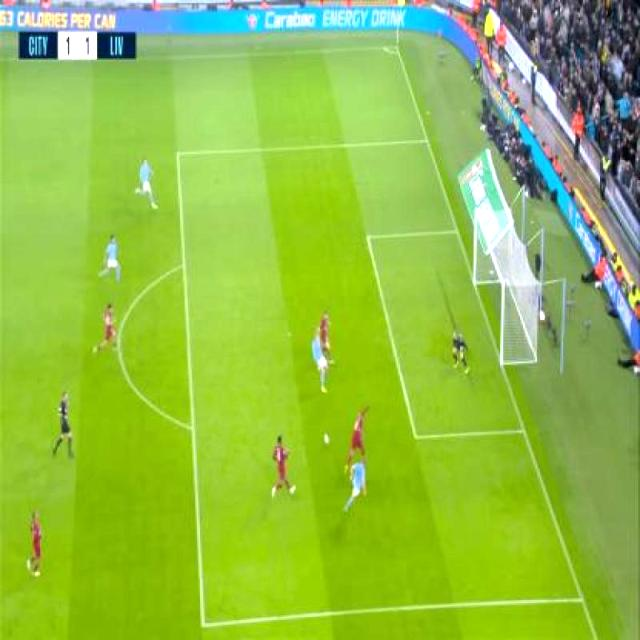bigarea_bottom_inner: (193, 605, 213, 640)
bigarea_bottom_outter: (572, 584, 592, 616)
bigarea_top_inner: (171, 138, 184, 168)
bigarea_top_outter: (418, 132, 436, 150)
bottom_arc_area_intersection: (180, 414, 205, 440)
corner: (390, 40, 404, 57)
smallarea_bottom_inner: (406, 420, 424, 450)
smallarea_bottom_outter: (516, 420, 530, 442)
smallarea_top_inner: (360, 224, 375, 250)
smallarea_top_outter: (448, 220, 468, 243)
top_arc_area_intersection: (174, 255, 194, 277)
